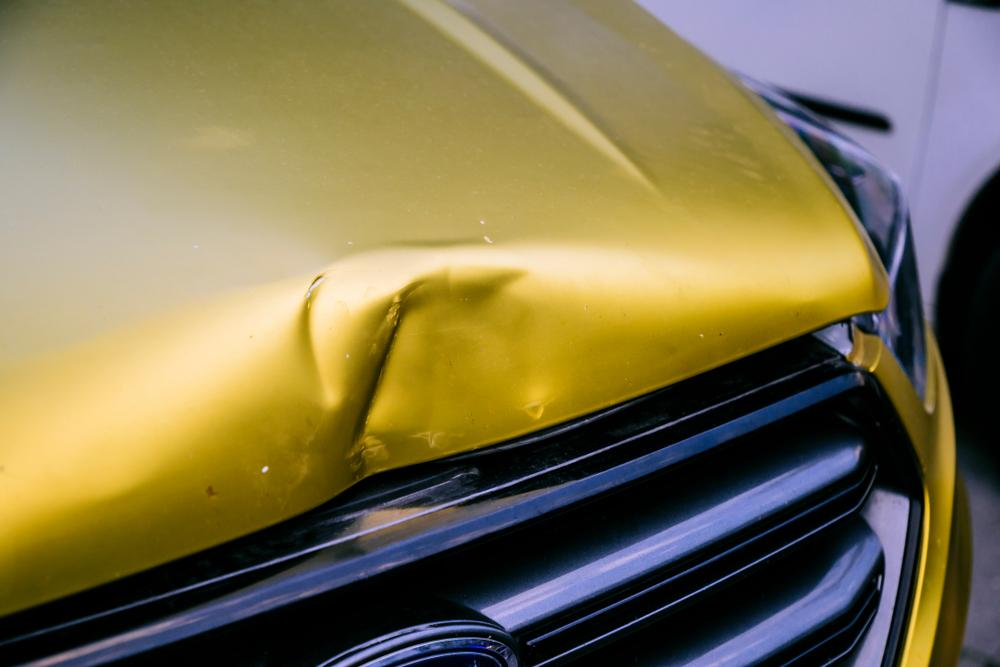dent: (348, 268, 567, 479), (292, 272, 354, 407)
